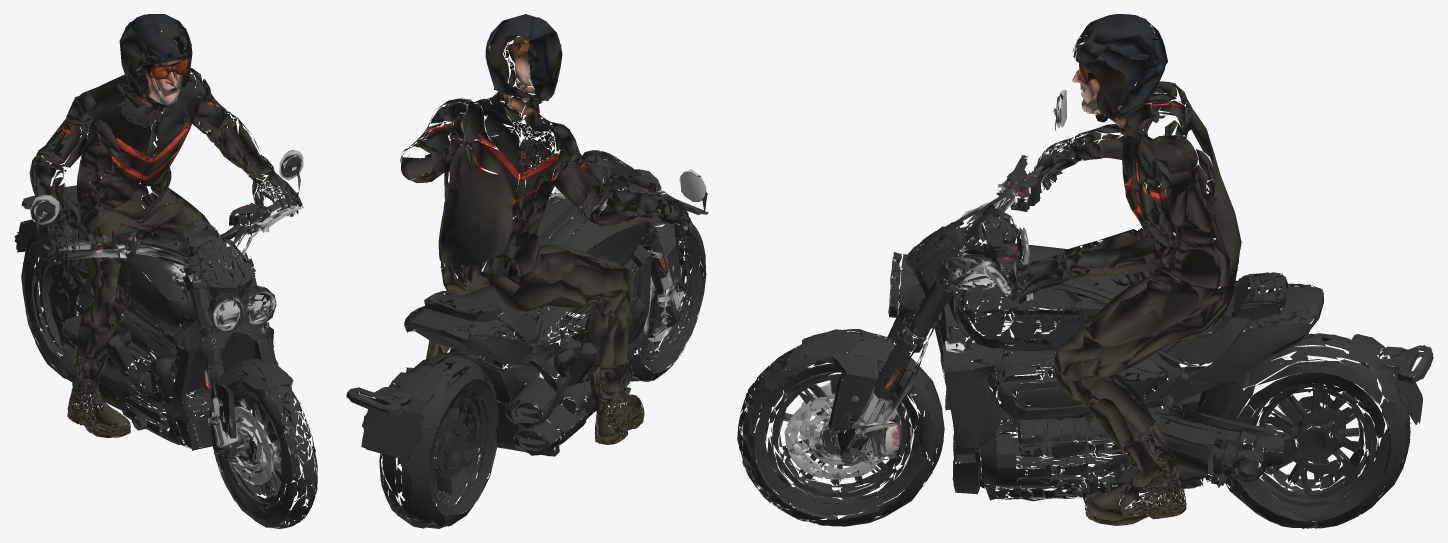
Rendered from bike-evel.glb.
3 views of the same model, side by side, from view 1: azimuth 30°, elevation 25°; view 2: azimuth 150°, elevation 25°; view 3: azimuth 270°, elevation 25° (orthographic). The views are drawn at different scales.
Parts seen in each view (by area): view 1: material.001; view 2: material.001; view 3: material.001.
Boxes of the visible parts, bbox=[...] form: material.001: bbox=[14, 14, 317, 528]; material.001: bbox=[346, 14, 708, 528]; material.001: bbox=[737, 14, 1433, 528].
Bounding box in the file's own units: 1.25 × 1.94 × 2.4.
Materials: 2 (2 with a texture image).
